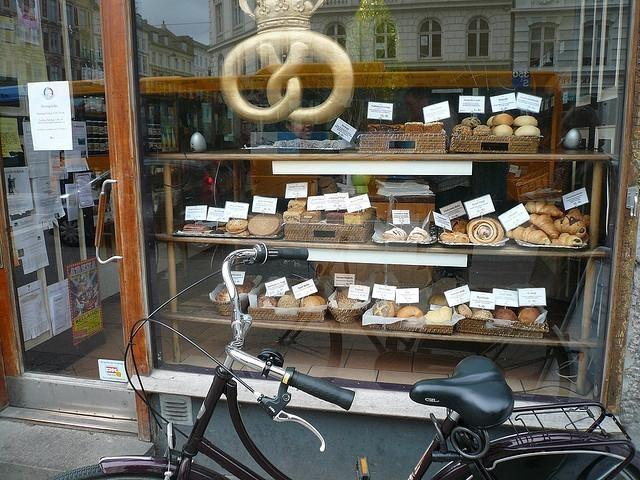bicycle: (138, 244, 640, 480)
